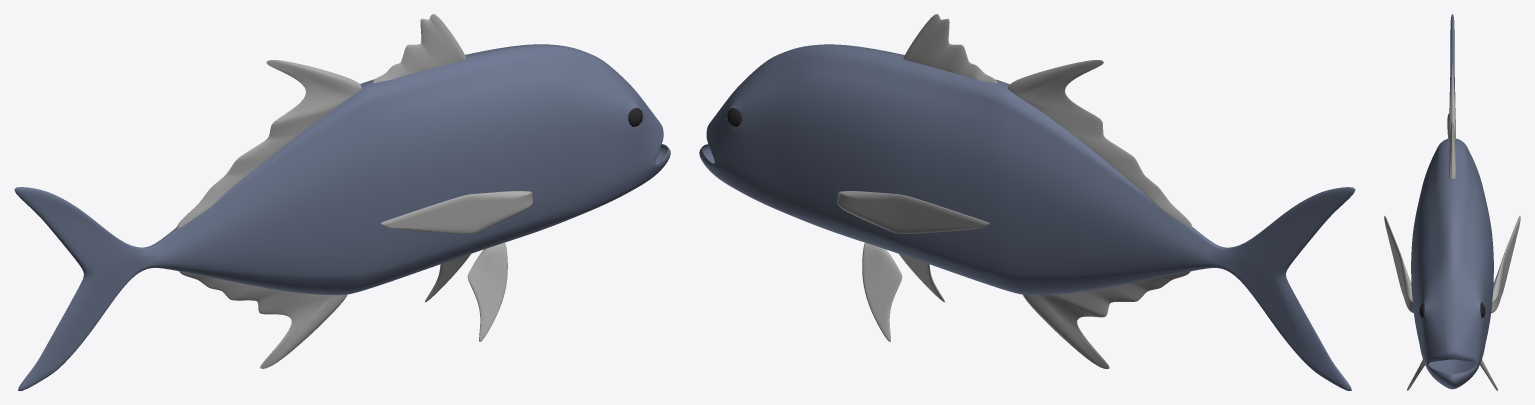
The model's file is fish.fbx.
3 views of the same model, side by side, from view 1: azimuth 30°, elevation 25°; view 2: azimuth 150°, elevation 25°; view 3: azimuth 270°, elevation 25° (orthographic). The views are drawn at different scales.
Visible parts, largest first — view 1: Cube.010, Plane.047, Plane.048, Plane.050, Plane.049, Plane.046; view 2: Cube.010, Plane.047, Plane.048, Plane.050, Plane.049, Plane.046; view 3: Cube.010, Plane.050, Plane.047, Plane.046, Plane.049, Icosphere.009.
Part boxes in pixels (x1,y1,x2,y2): Cube.010: (14, 44, 670, 390); Plane.047: (176, 60, 361, 227); Plane.048: (179, 271, 346, 368); Plane.050: (380, 191, 532, 233); Plane.049: (425, 242, 507, 341); Plane.046: (372, 14, 466, 83); Cube.010: (699, 44, 1355, 390); Plane.047: (1007, 60, 1192, 228); Plane.048: (1023, 271, 1190, 368); Plane.050: (837, 191, 989, 233); Plane.049: (862, 242, 944, 341); Plane.046: (903, 14, 997, 83); Cube.010: (1411, 14, 1493, 389); Plane.050: (1384, 216, 1520, 313); Plane.047: (1447, 62, 1455, 140); Plane.046: (1448, 120, 1456, 178); Plane.049: (1407, 359, 1497, 390); Icosphere.009: (1419, 302, 1485, 317).
Bounding box in the file's own units: 416 × 190 × 90.4.
